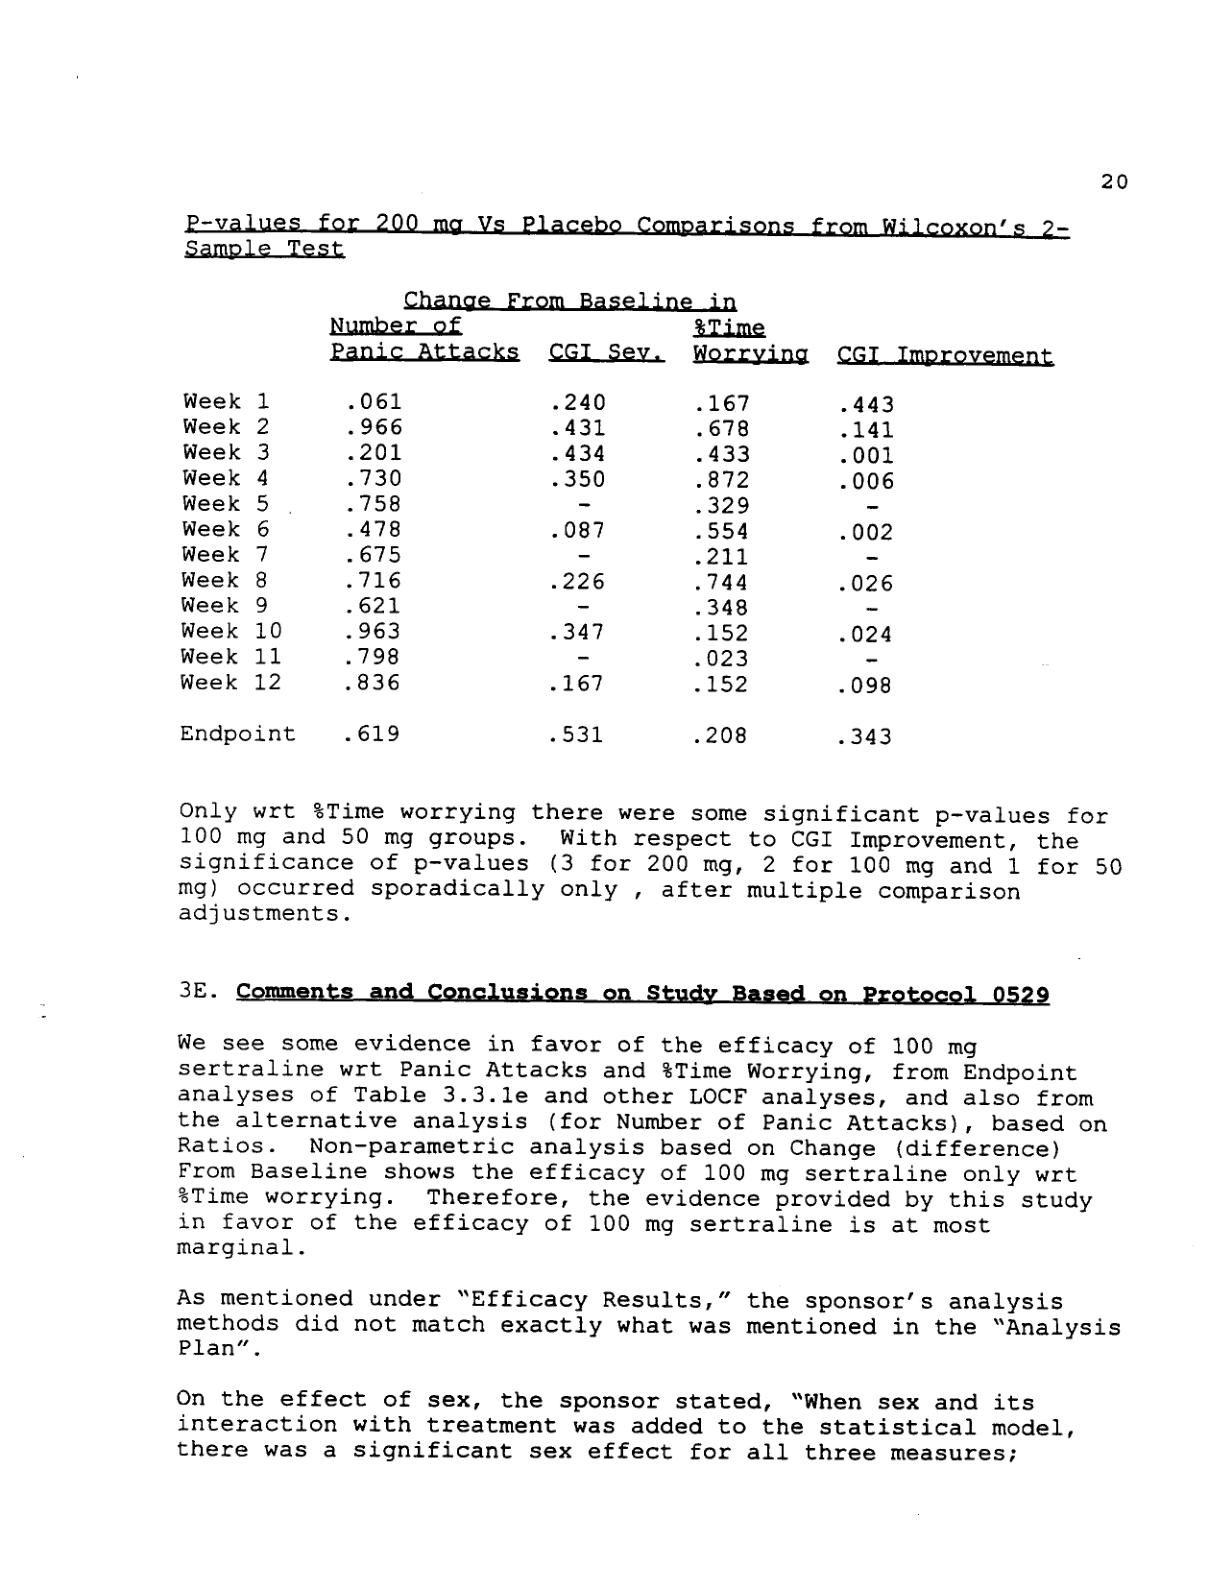nolines: (174, 314, 1057, 749)
